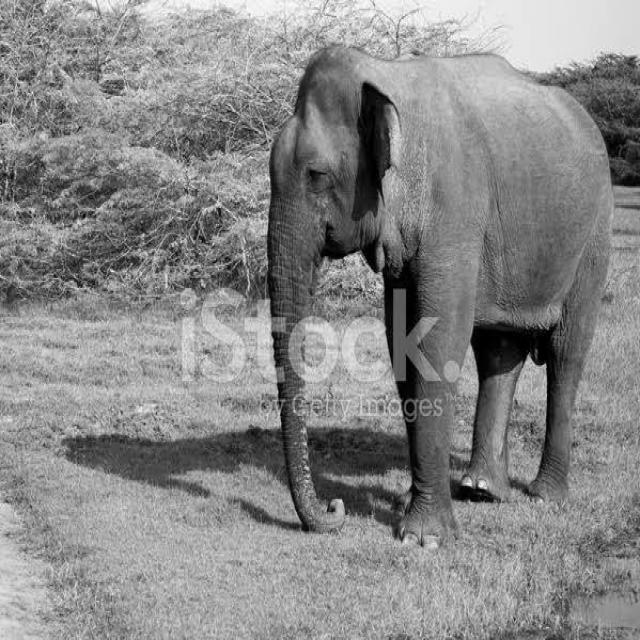Elephant: (265, 42, 615, 548)
